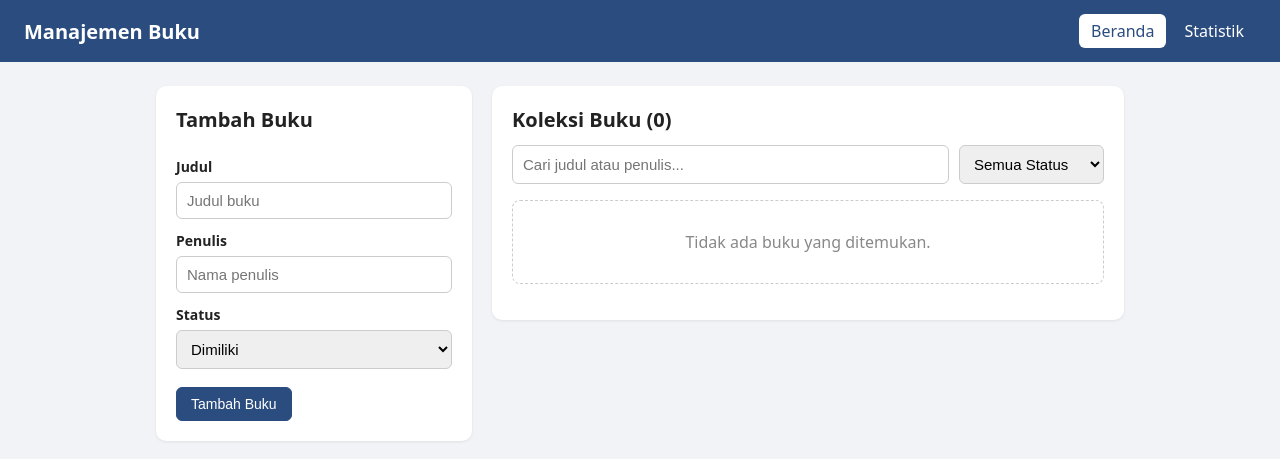
it: App › buku baru tampil di daftar dan tersimpan di localStorage
The width and height of the screenshot is (1280, 459).
Type "Laut Bercerita" into the field labelled "Judul" at [314, 200], box [176, 182, 452, 219]
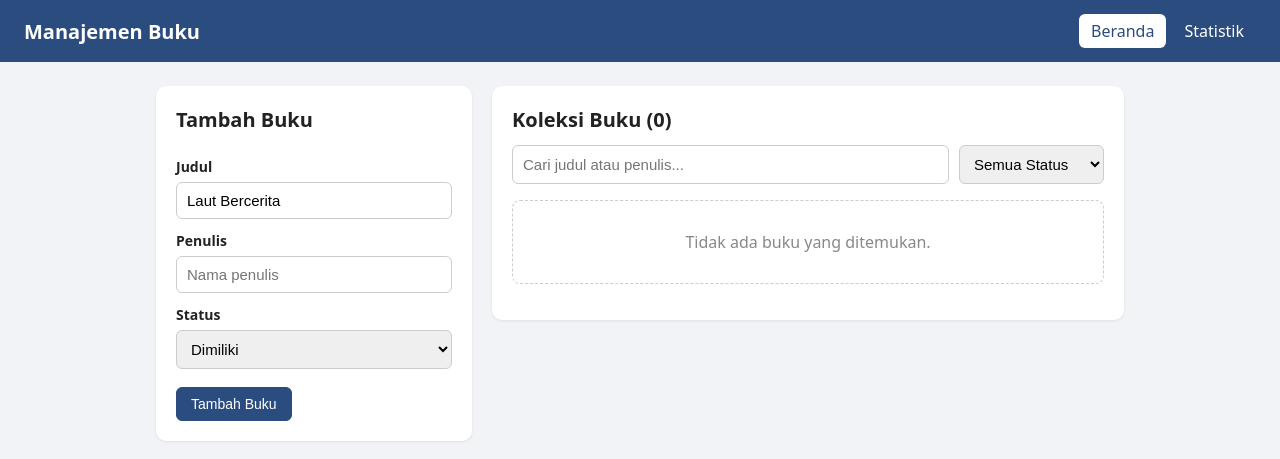
Type "Leila S. Chudori" into the field labelled "Penulis" at [314, 274], box [176, 256, 452, 293]
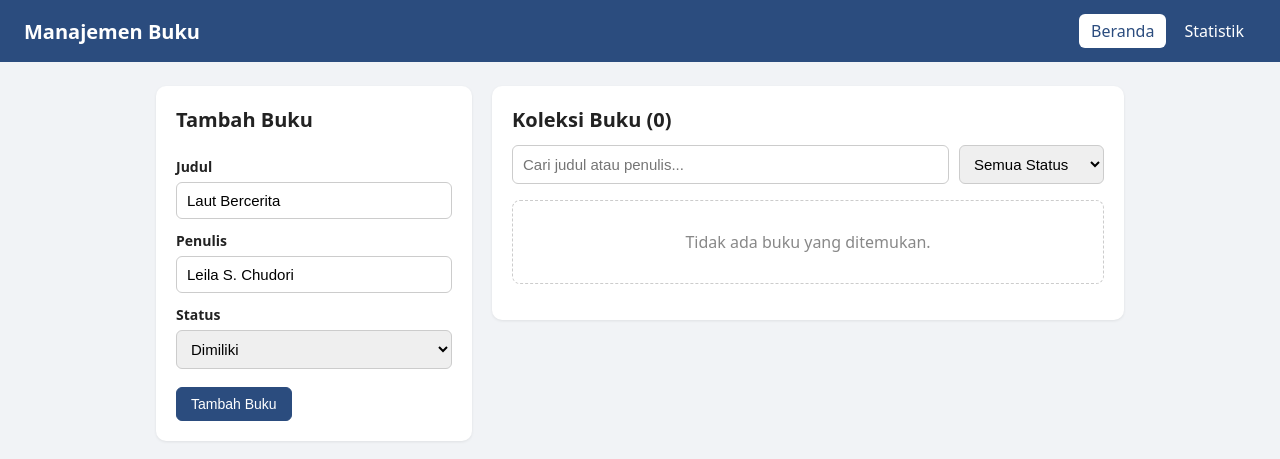
Click the button "Tambah Buku" at [234, 404], box [176, 387, 292, 421]
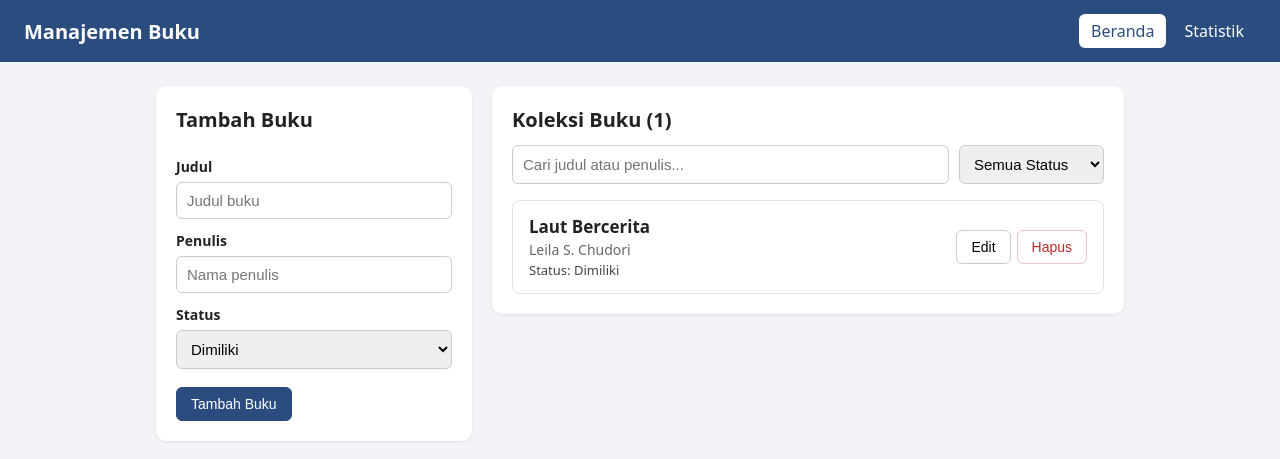
Check: the heading "Laut Bercerita" is shown, box [529, 215, 650, 238]
